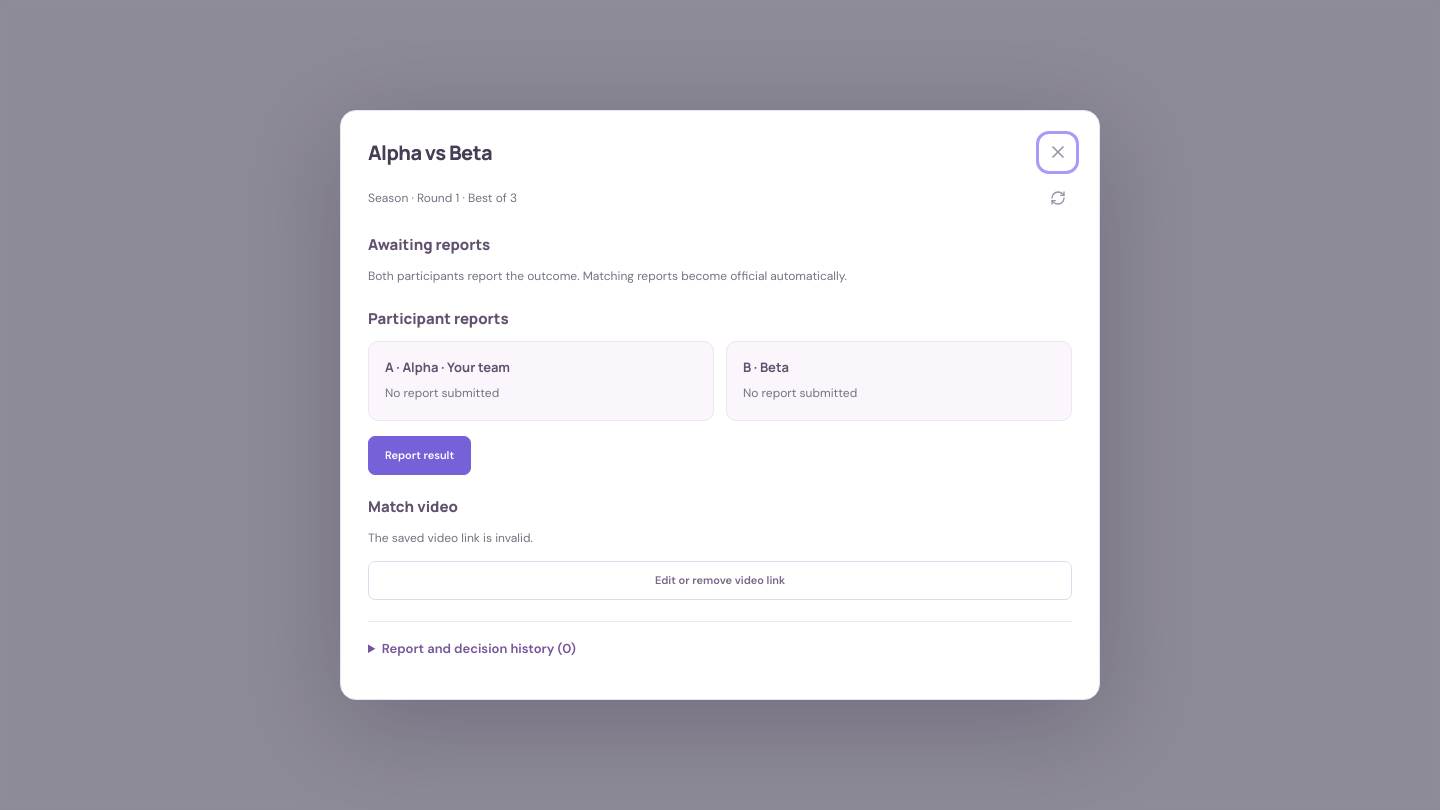
Scenario: TournamentMatch › never renders an unsafe VOD link and prevents saving one
Click the button "Edit or remove video link" at (720, 580), box [368, 561, 1072, 600]
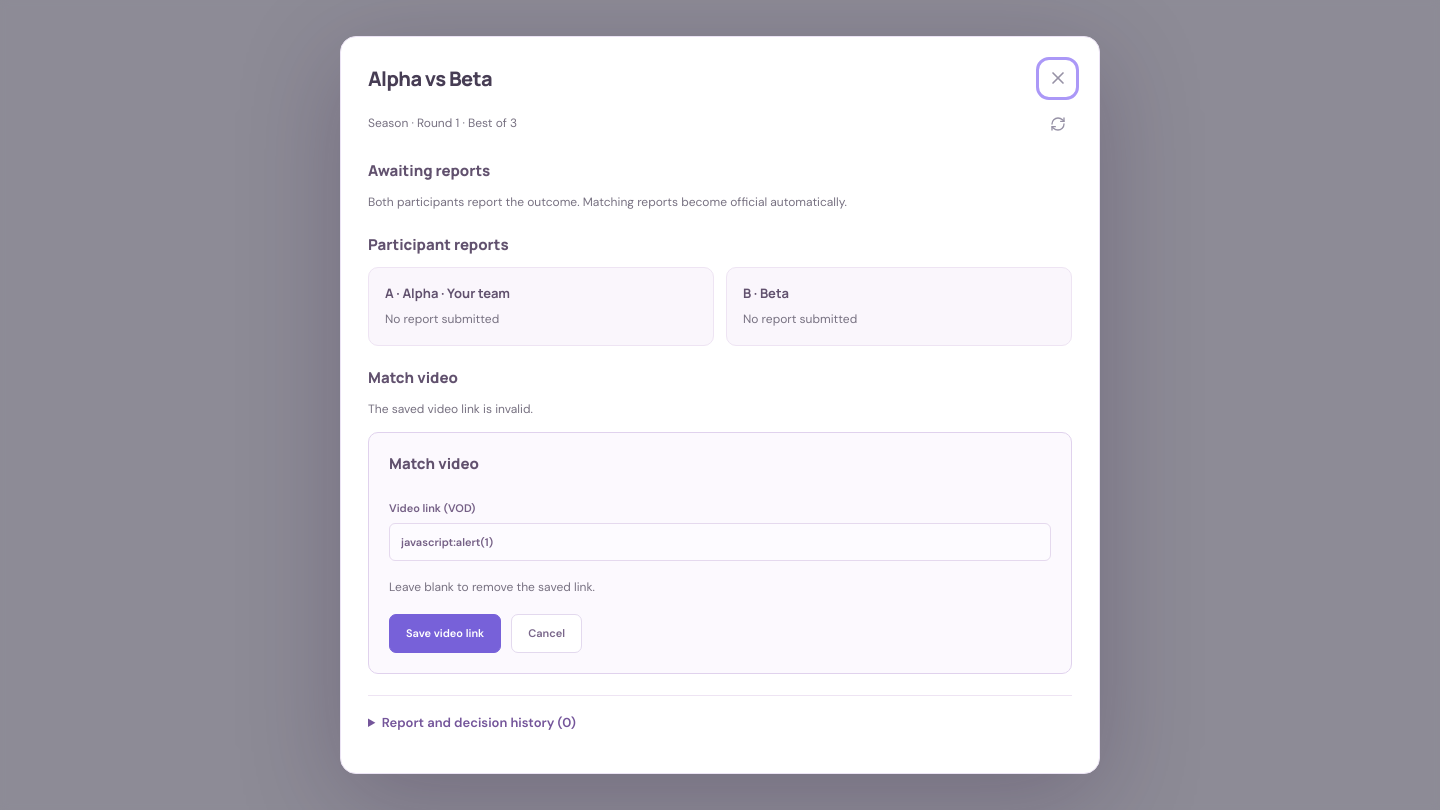
Replace the text in the field labelled "Video link (VOD)" with "https://user:password@example.com/video" at (720, 542), box [389, 523, 1051, 561]
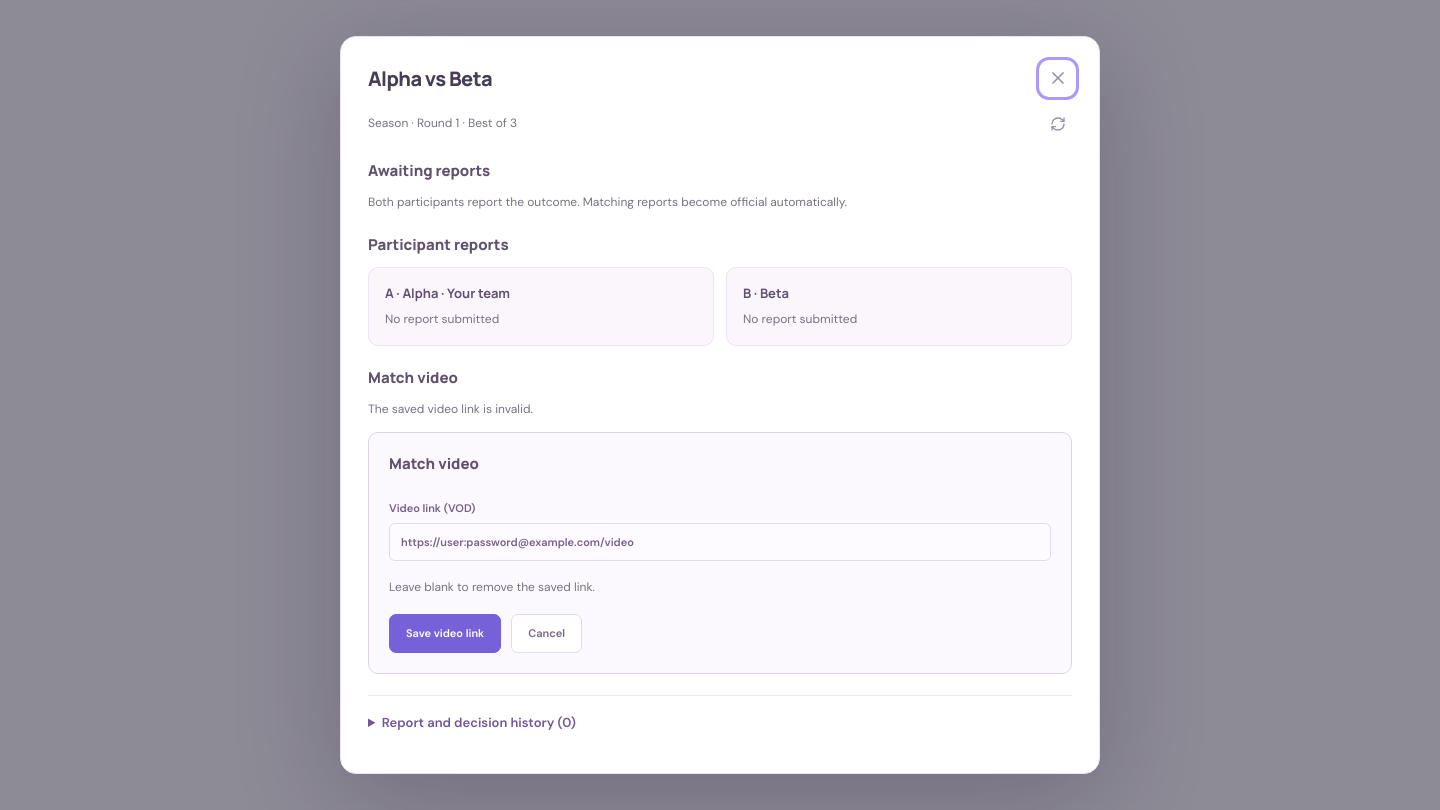
Submit the form, box [368, 432, 1072, 674]
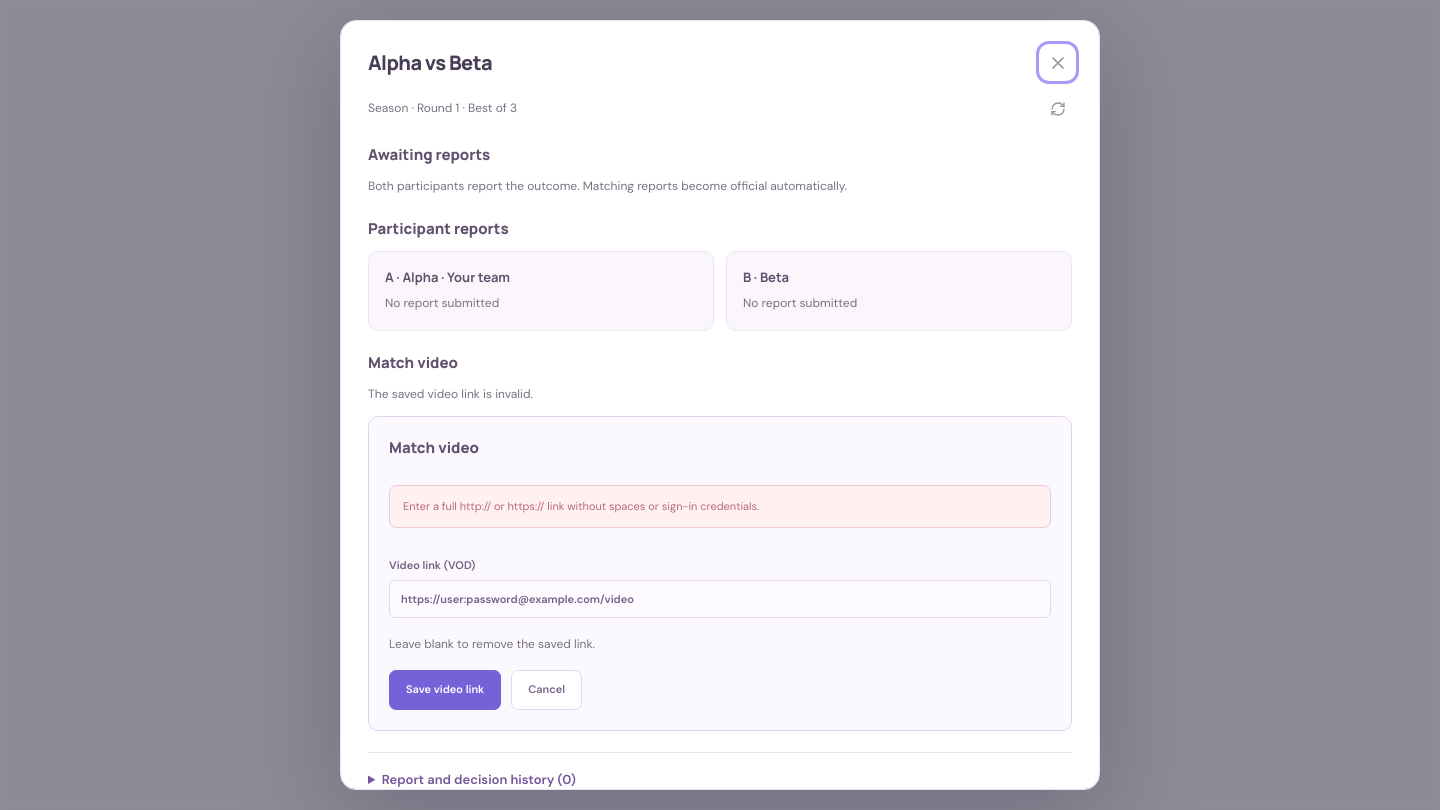
Expected: the text "without spaces or sign-in credentials" is shown, [403, 499, 759, 513]
